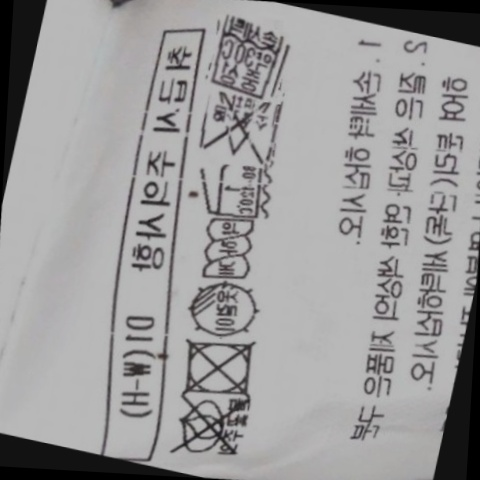DN_tumble_dry: (172, 326, 269, 408)
hand_wash: (202, 14, 295, 101)
iron_low: (194, 153, 274, 227)
line_dry_in_shade: (178, 273, 269, 345)
wring: (195, 211, 264, 289)
